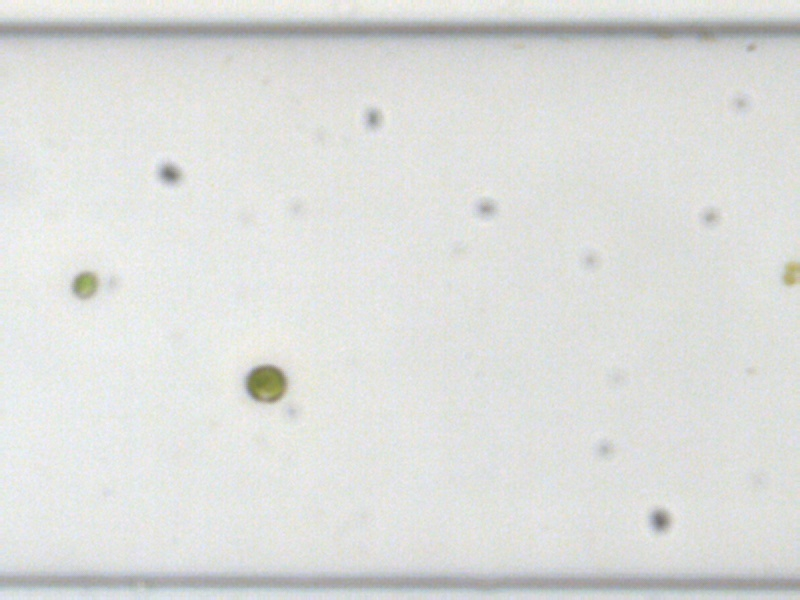Chlorella: (69, 269, 98, 299)
Platymonas: (242, 362, 287, 403)
